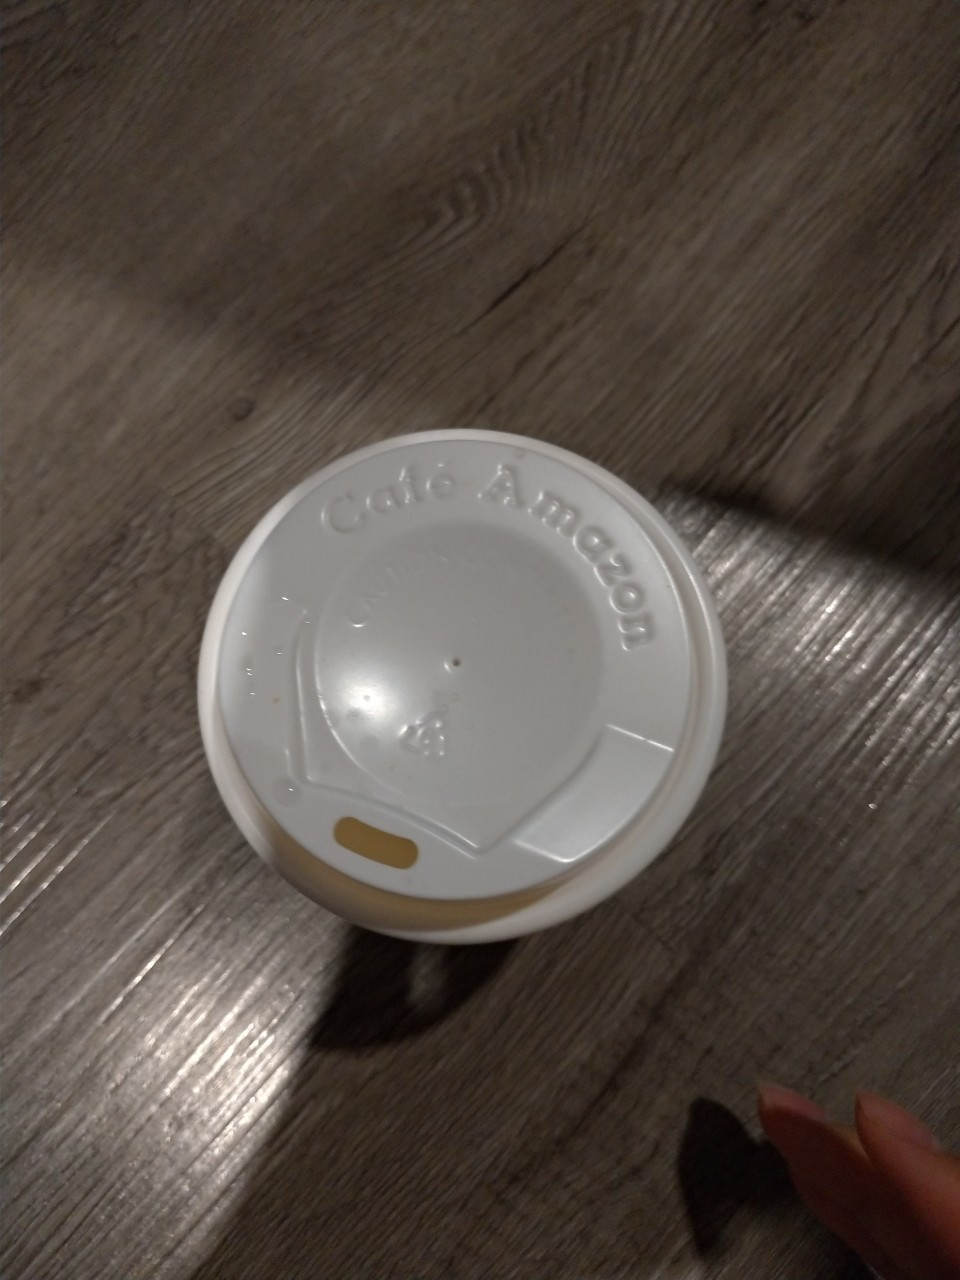PaperCup: (210, 429, 726, 945)
